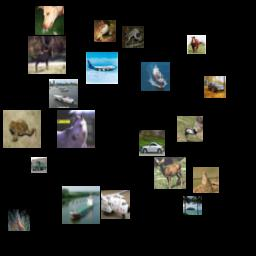airplane: (86, 52, 118, 84), (101, 190, 130, 219)
automobile: (139, 130, 165, 156), (204, 76, 226, 98)
bird: (177, 116, 203, 142), (193, 167, 219, 193)
deer: (28, 36, 66, 74), (154, 157, 186, 189), (8, 209, 30, 231)
dog: (35, 6, 64, 35)
frog: (3, 110, 41, 148), (94, 20, 116, 42), (122, 26, 144, 48)
ship: (62, 186, 100, 224), (141, 62, 170, 91), (49, 79, 78, 108), (183, 196, 202, 215)
truck: (31, 157, 47, 173)
